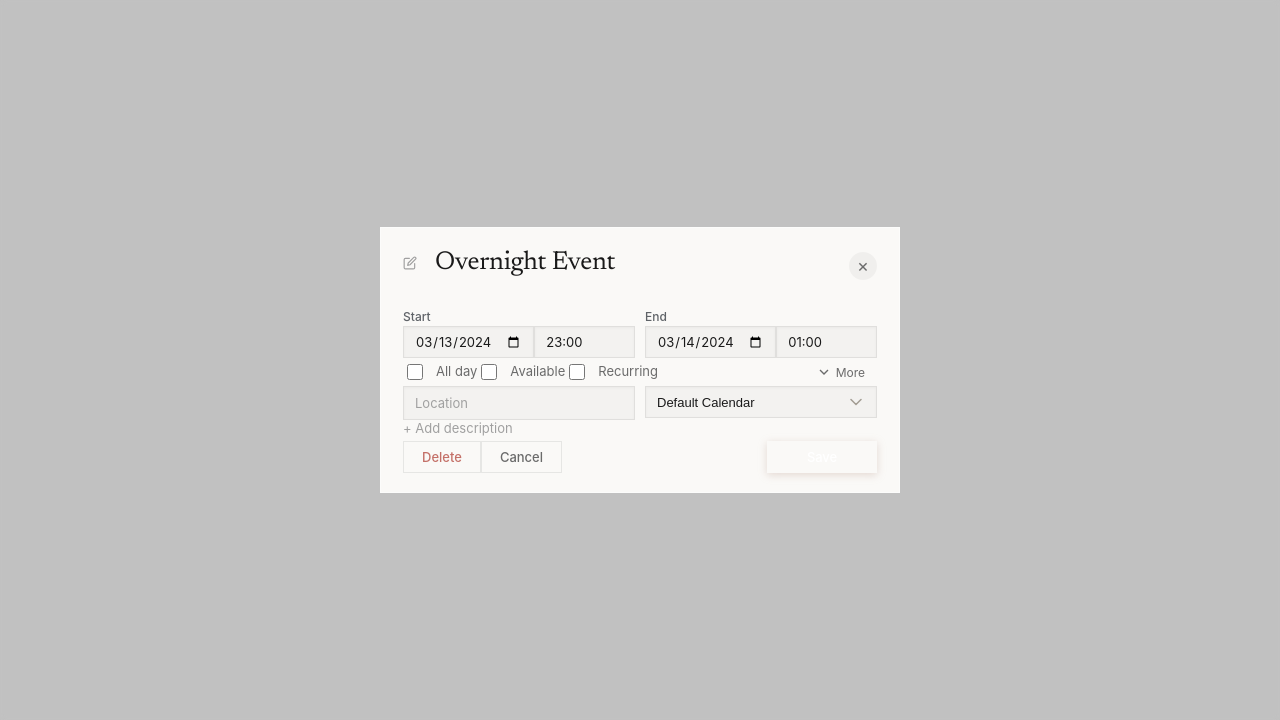
Test: EventModal › date field changes preserve start<=end (issue #44) › shifts the end date along with the start date for an overnight event, keeping the range valid
Type "2024-03-14" into the date field below "Start".
click(469, 342); type("2024-03-14")  # box [403, 326, 534, 358]
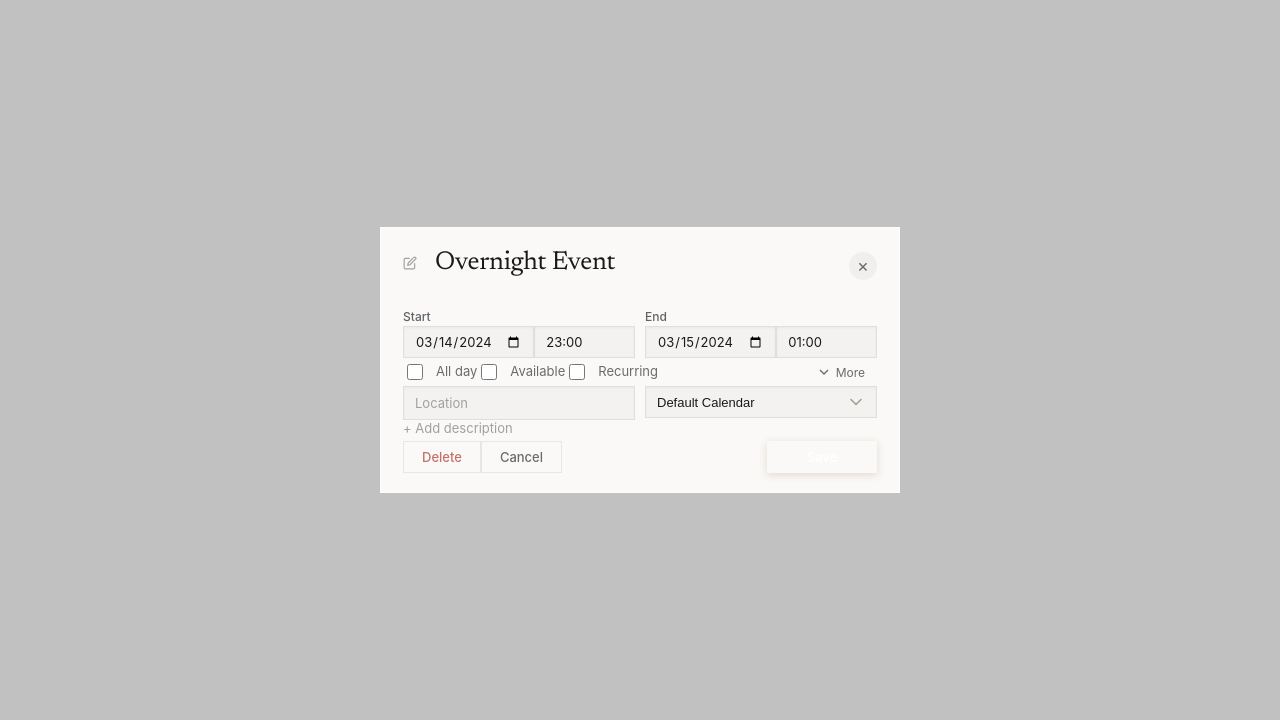
Expected: the button "Save" is enabled, [767, 441, 877, 473]
Result: the date field below "End" holds "2024-03-15" at [645, 326, 776, 358]
